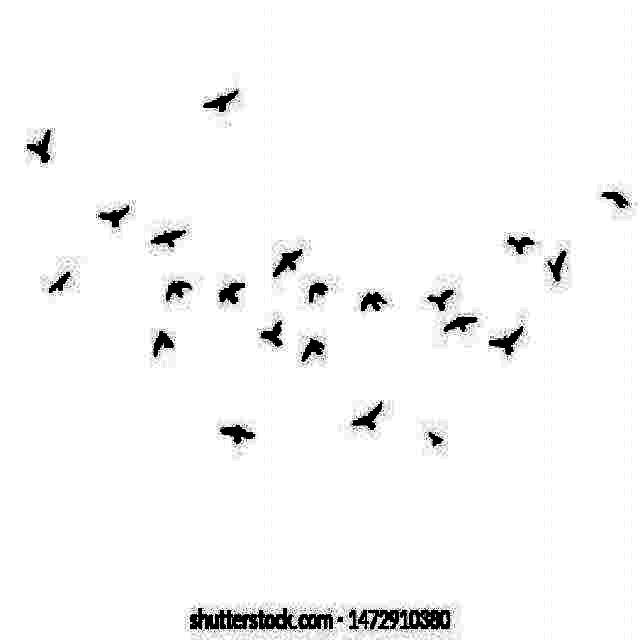bird: (18, 123, 59, 167), (294, 328, 332, 374), (212, 274, 250, 316), (349, 397, 384, 441), (42, 260, 78, 302), (94, 201, 142, 232), (214, 416, 258, 448), (270, 244, 309, 280), (196, 85, 238, 118), (595, 183, 631, 220), (541, 248, 571, 292), (489, 321, 526, 356), (439, 310, 480, 340), (152, 220, 189, 253), (161, 271, 192, 309), (256, 311, 286, 348), (147, 329, 174, 368), (424, 280, 454, 314), (303, 270, 330, 306), (358, 286, 388, 318), (504, 228, 536, 257), (416, 428, 450, 454)
